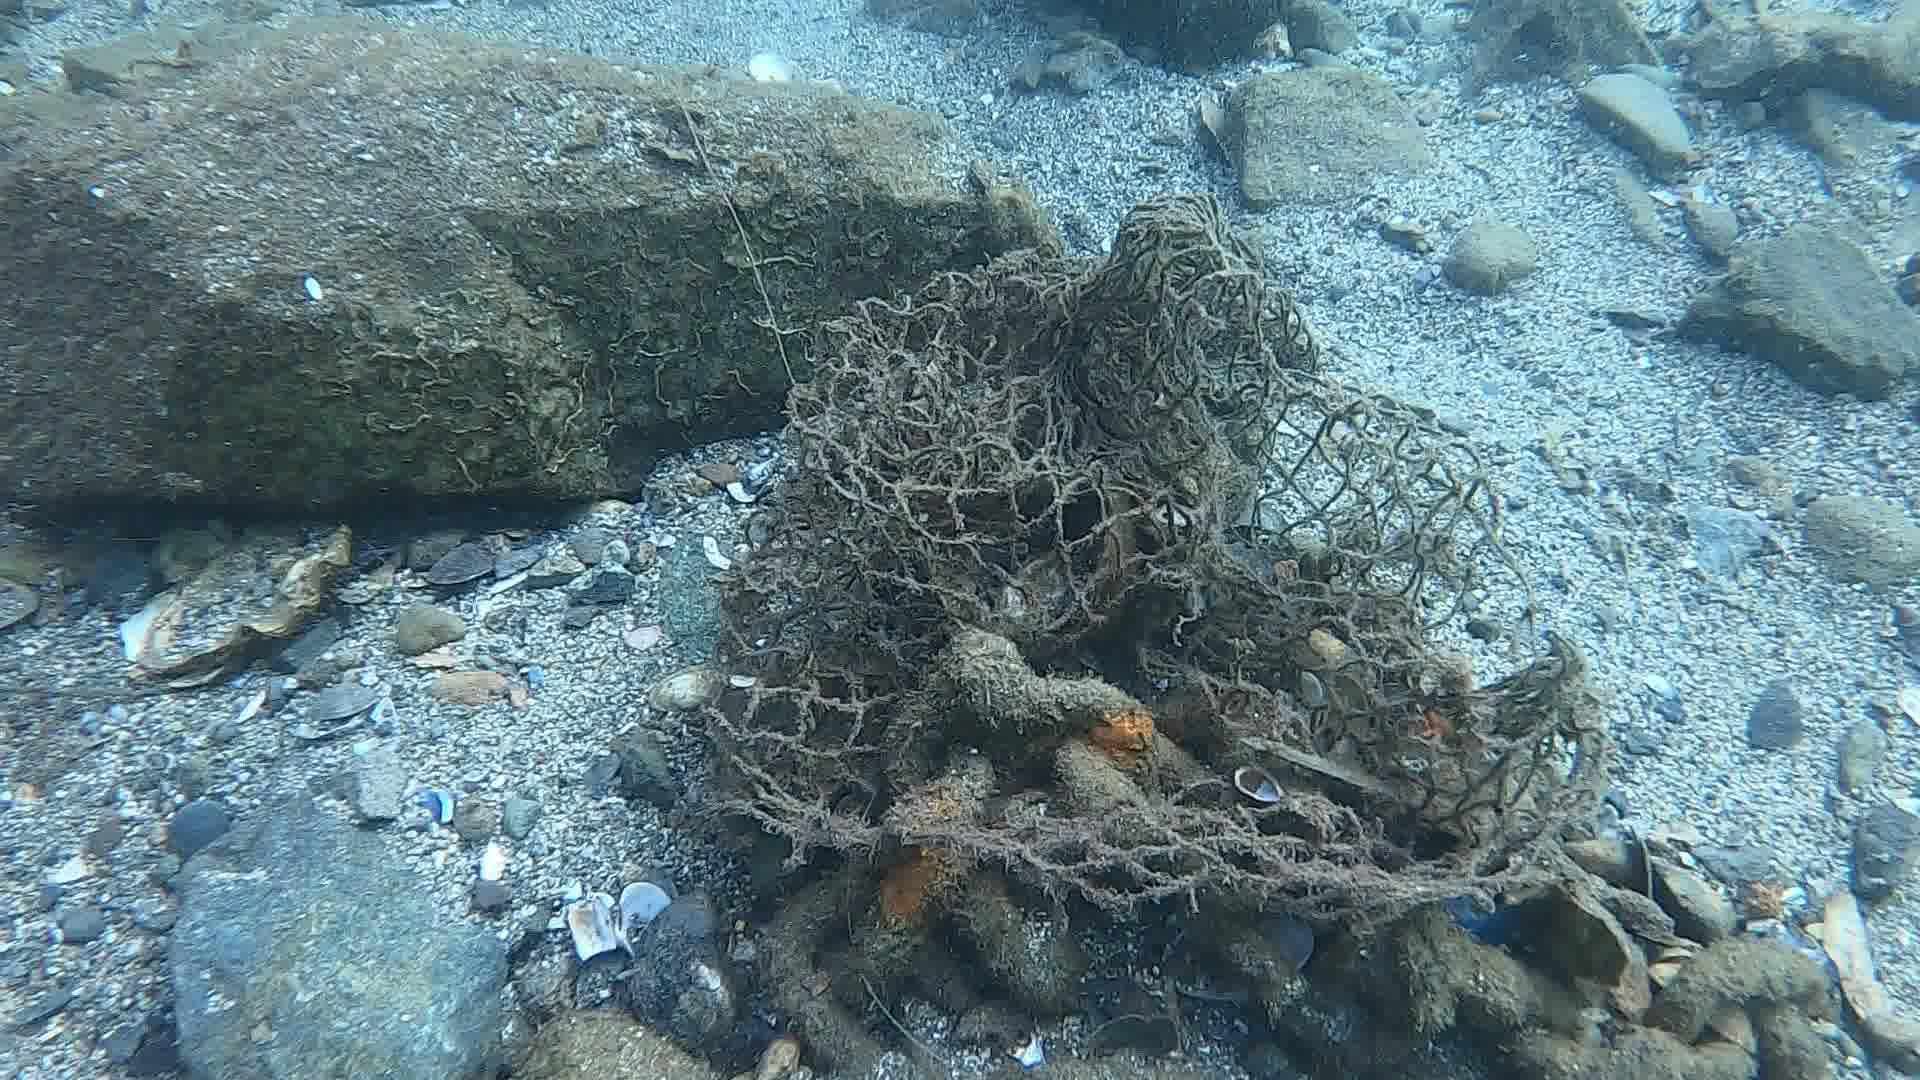fish net: (707, 389, 1609, 915)
